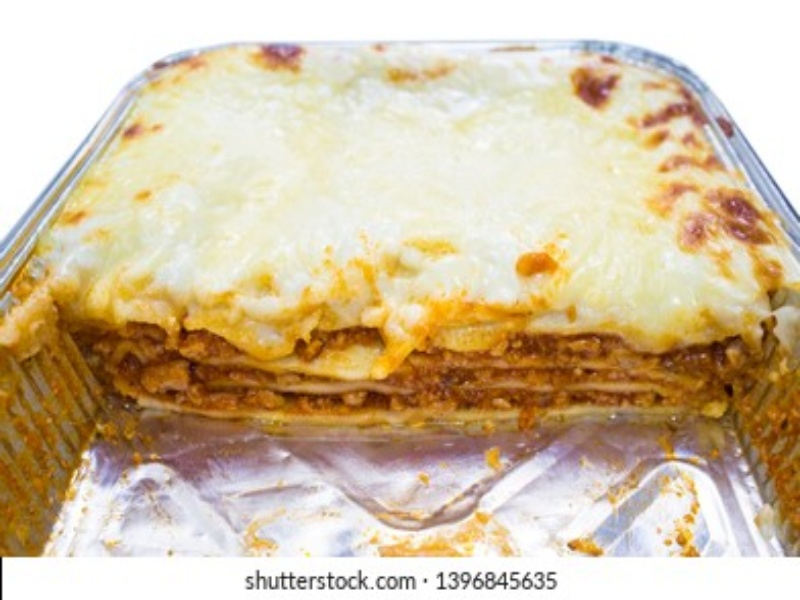Aluminium_Foil: (100, 409, 748, 552)
